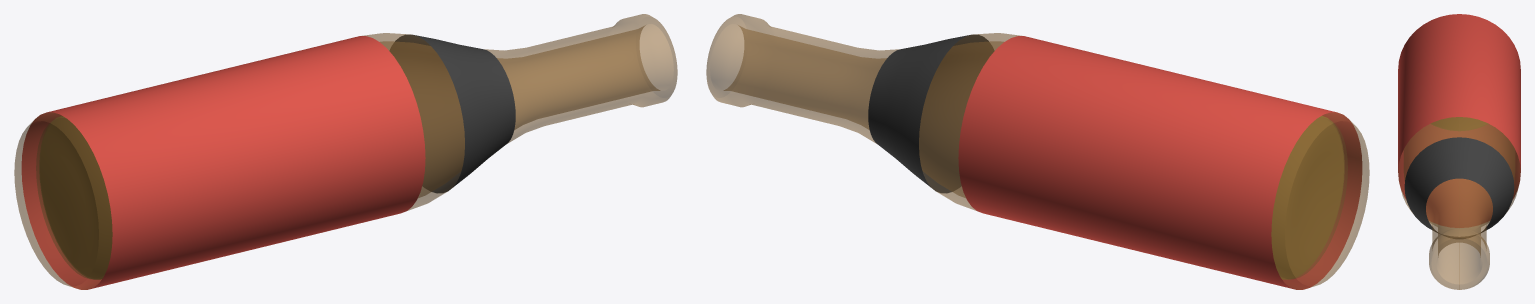
Rendered from kitchen_bottle_beer_brown.fbx.
3 renders of one model, left to right at view 1: azimuth 30°, elevation 25°; view 2: azimuth 150°, elevation 25°; view 3: azimuth 270°, elevation 25°, orthographic. The views are drawn at different scales.
Parts seen in each view (by area): view 1: kitchen_bottle_beer_brown; view 2: kitchen_bottle_beer_brown; view 3: kitchen_bottle_beer_brown.
Part boxes in pixels (box(x1,y1,x2,y2)): kitchen_bottle_beer_brown: box(14, 14, 677, 289); kitchen_bottle_beer_brown: box(706, 14, 1369, 289); kitchen_bottle_beer_brown: box(1398, 14, 1520, 289).
Bounding box in the file's own units: 0.232 × 0.061 × 0.061.
